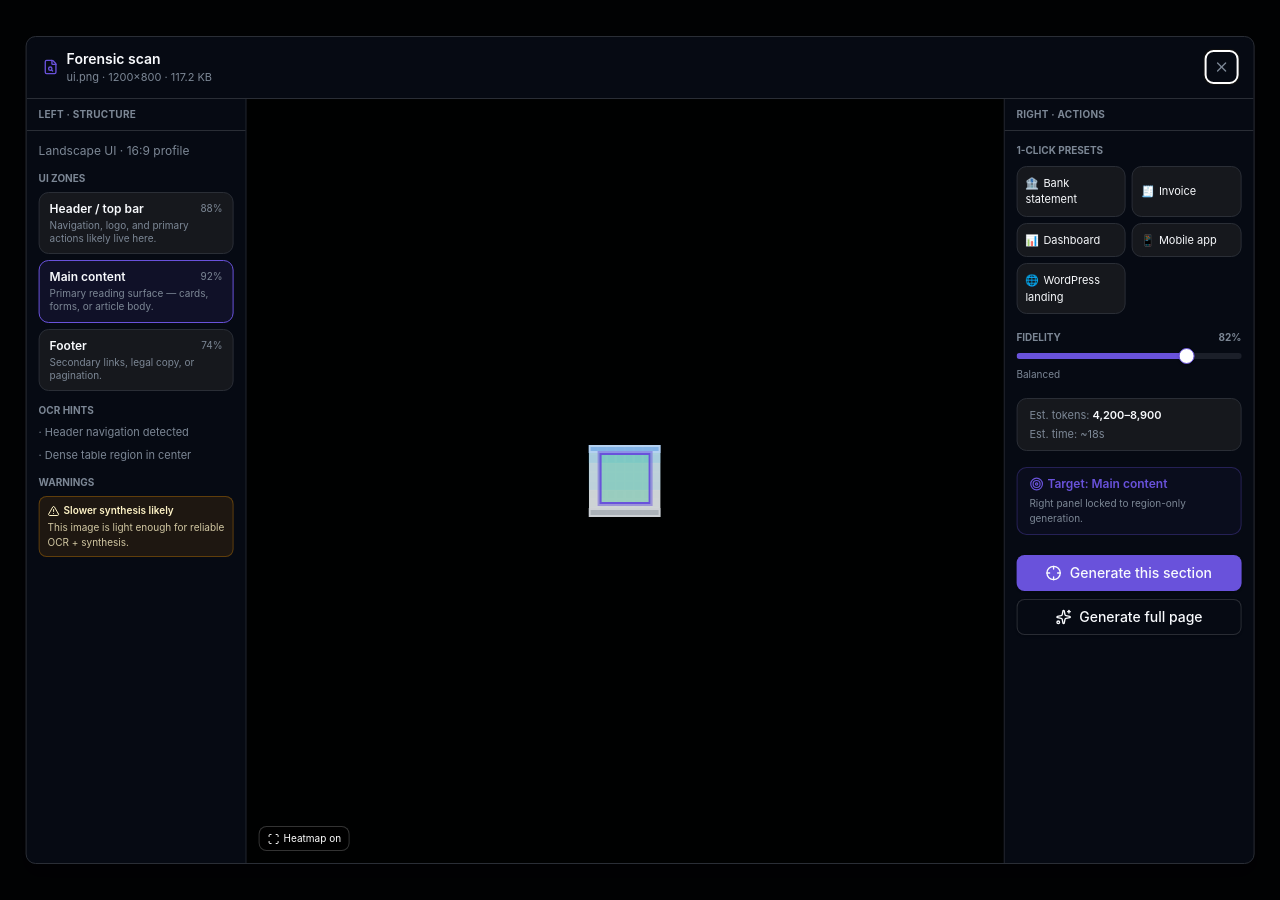
Test: buttons › forensic-lightbox › preset Invoice — toggles active state
Later steps or results of the test are not shown.
Step 1. Click the button "🧾Invoice" → [1187, 191], box left=1132, top=166, right=1241, bottom=216
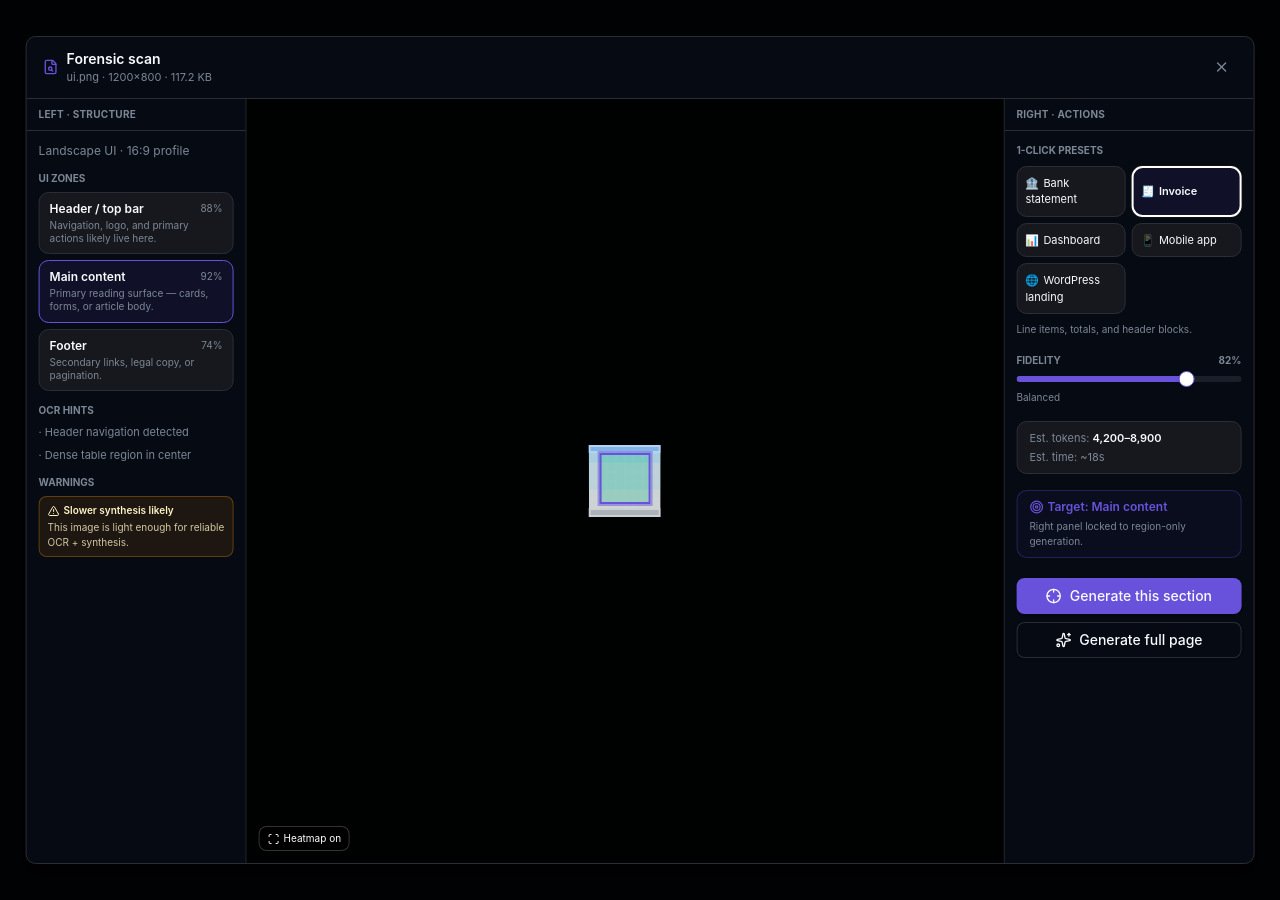
Now the button "🧾Invoice" has class "border-primary", box left=1132, top=166, right=1241, bottom=216
